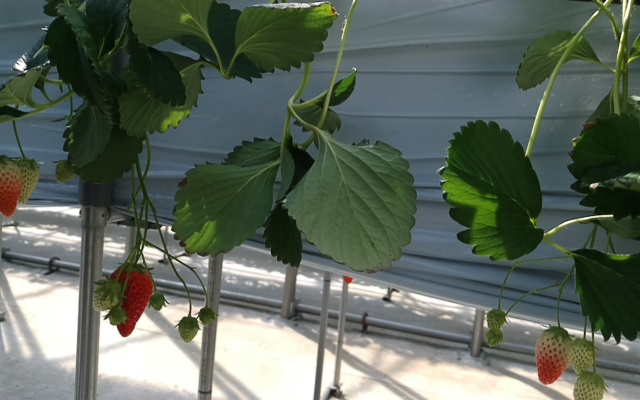GreenStrawberry: (534, 322, 577, 383), (9, 155, 41, 206), (91, 279, 122, 313), (573, 370, 607, 400), (569, 338, 596, 374), (177, 316, 198, 344), (53, 159, 75, 185), (484, 309, 508, 332), (485, 330, 505, 349), (108, 306, 125, 326)
MatureStrawberry: (111, 260, 156, 338), (1, 153, 24, 221)
